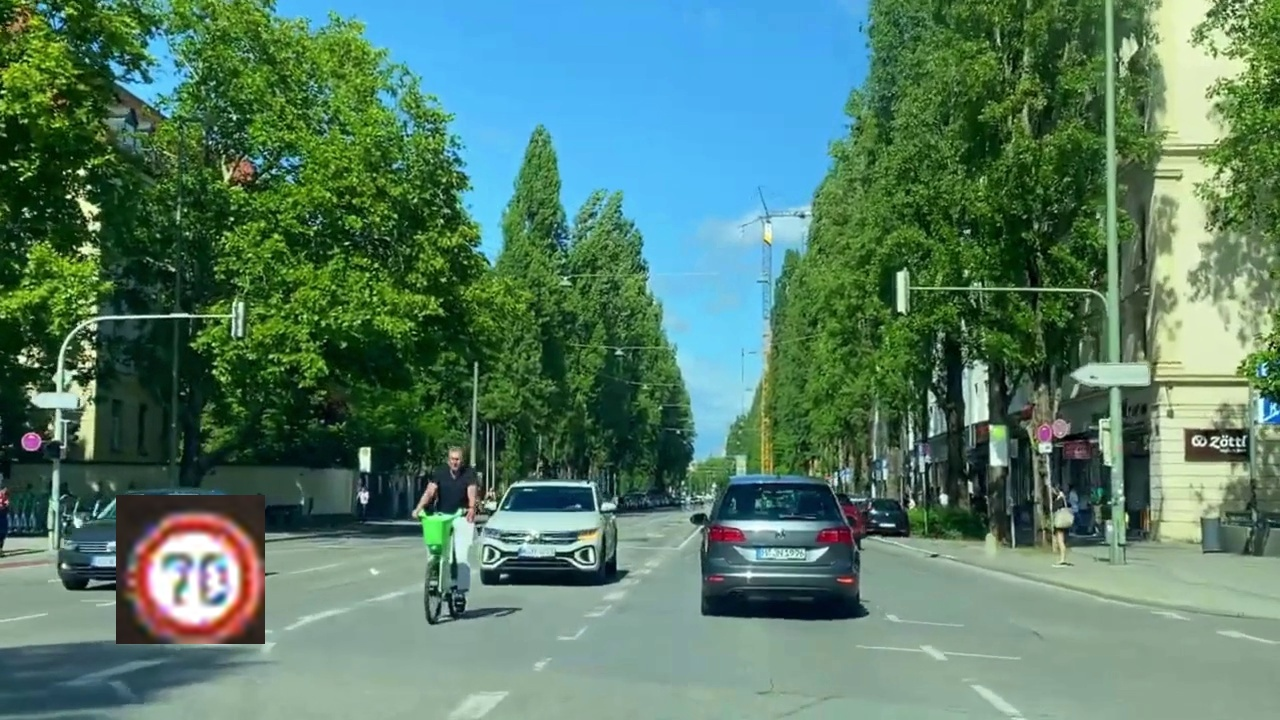Speed 70: (116, 495, 265, 644)
